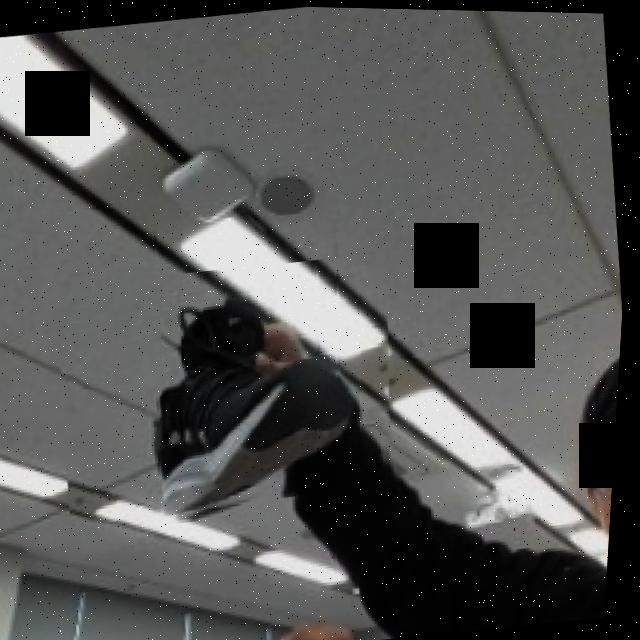shoe: (48, 245, 420, 534)
